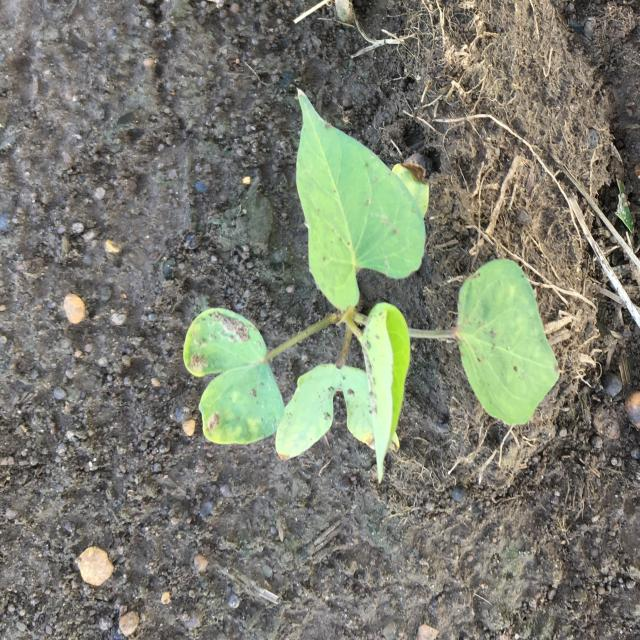MorningGlory: (183, 90, 560, 483)
